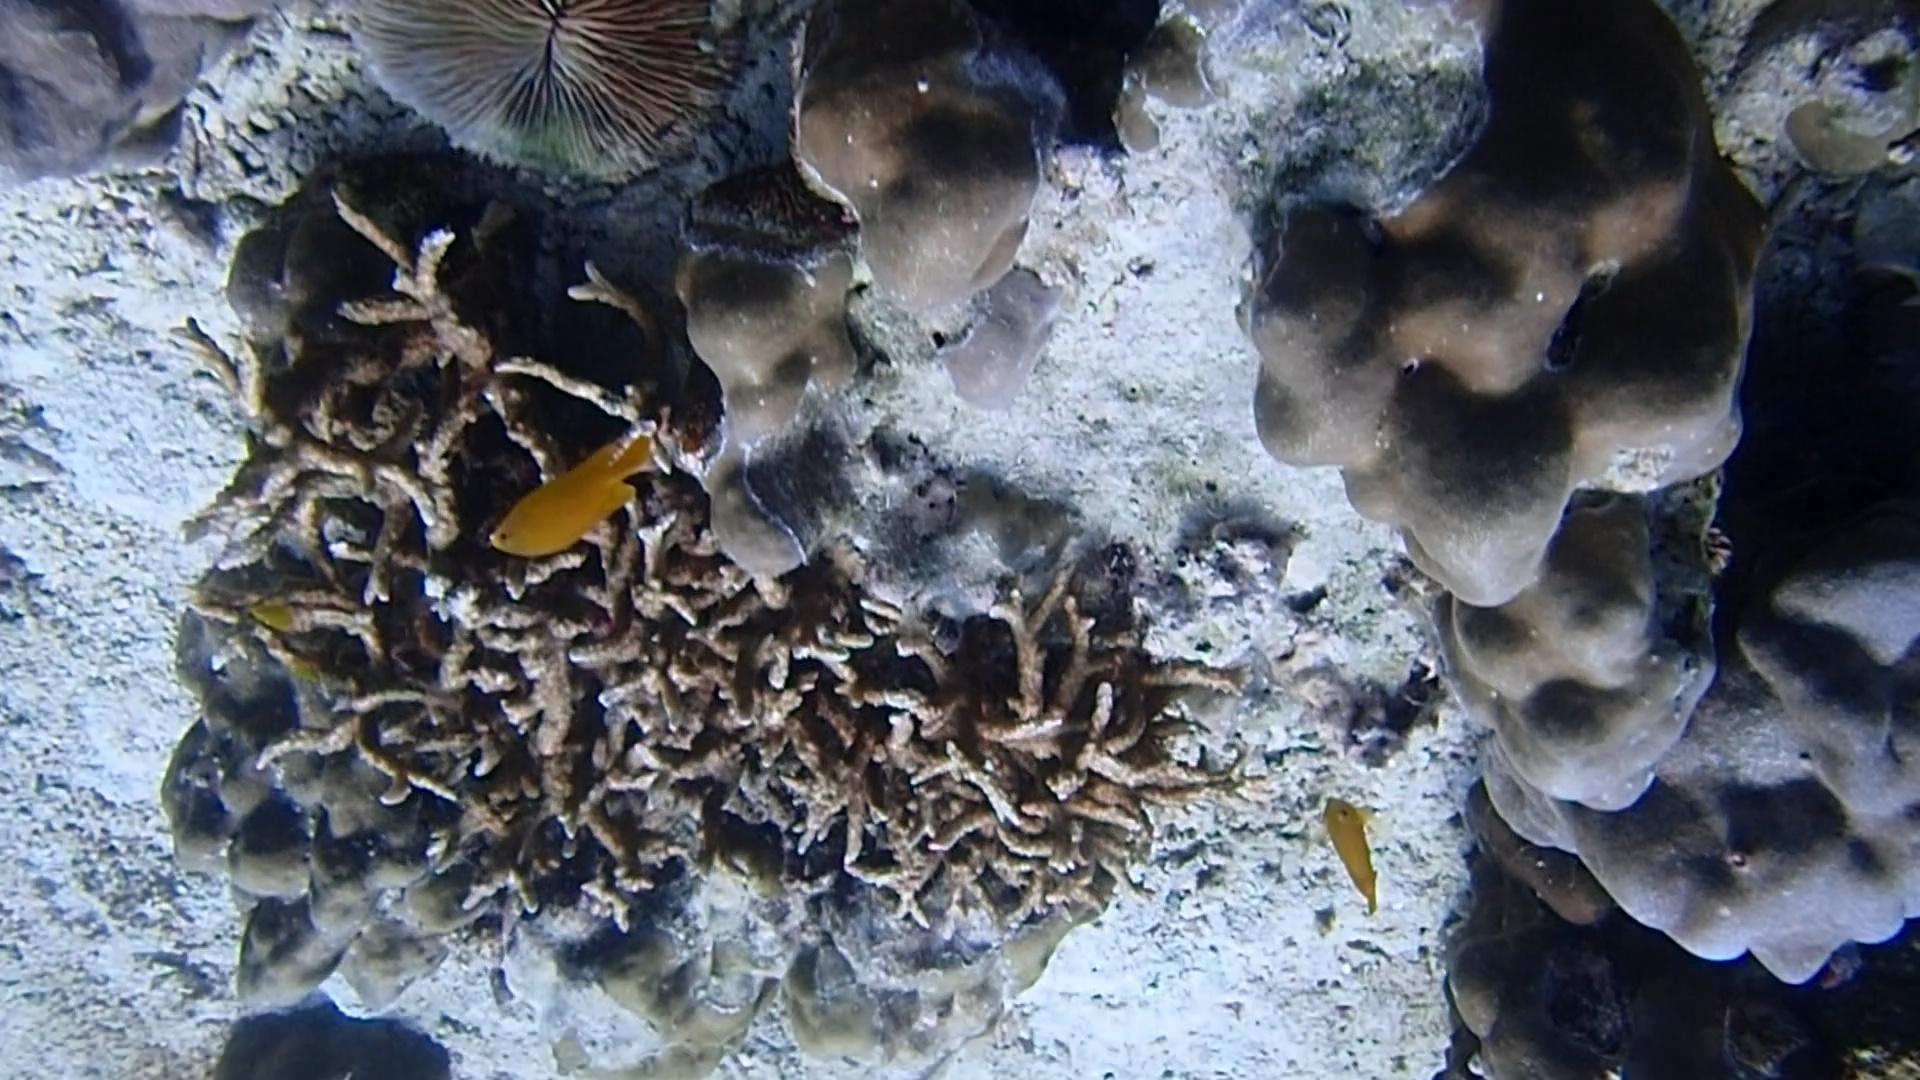Yellow Fish: (488, 425, 669, 563), (1311, 787, 1393, 916), (243, 597, 298, 632)
